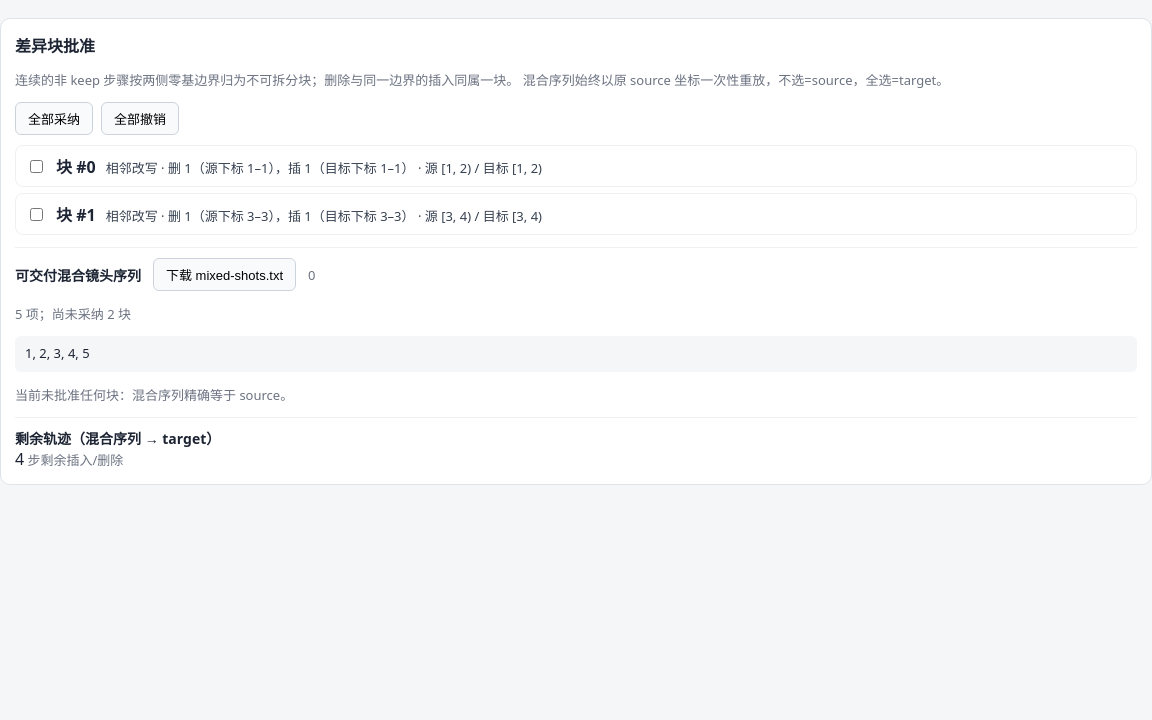
Test: BlockMixer 逐块批准 › 两块场景逐块选择不下标漂移，剩余请求使用最新混合序列
Check: the text with test id "remaining-distance" reads "4", box [15,448,24,470]
What coordinates should you click on to do the following:
click the 1st checkbox with test id "block-checkbox"
I would click on:
 (36, 166)
Its box is [30,160,43,173].
Wait 150 ms
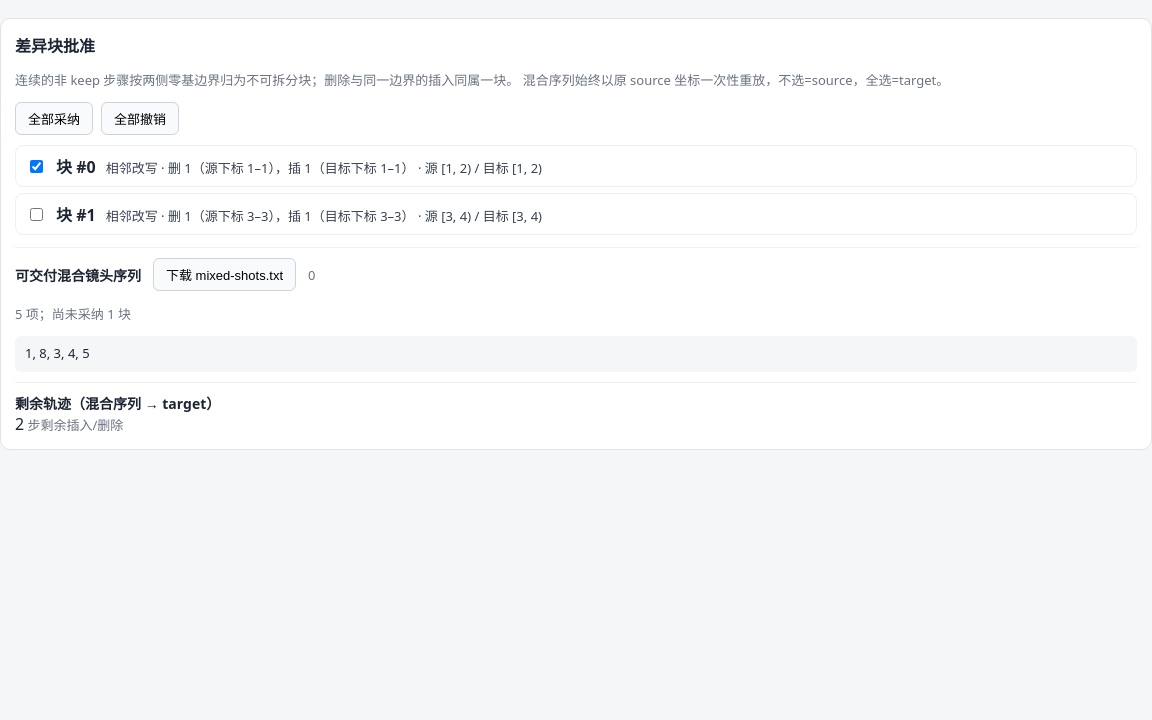
Check: the text with test id "mixed-sequence" reads "1, 8, 3, 4, 5", box [25,344,90,362]
Check: the text with test id "remaining-distance" reads "2", box [15,413,24,435]
What coordinates should you click on to do the following:
click the 1st checkbox with test id "block-checkbox"
I would click on:
 (36, 166)
Its box is [30,160,43,173].
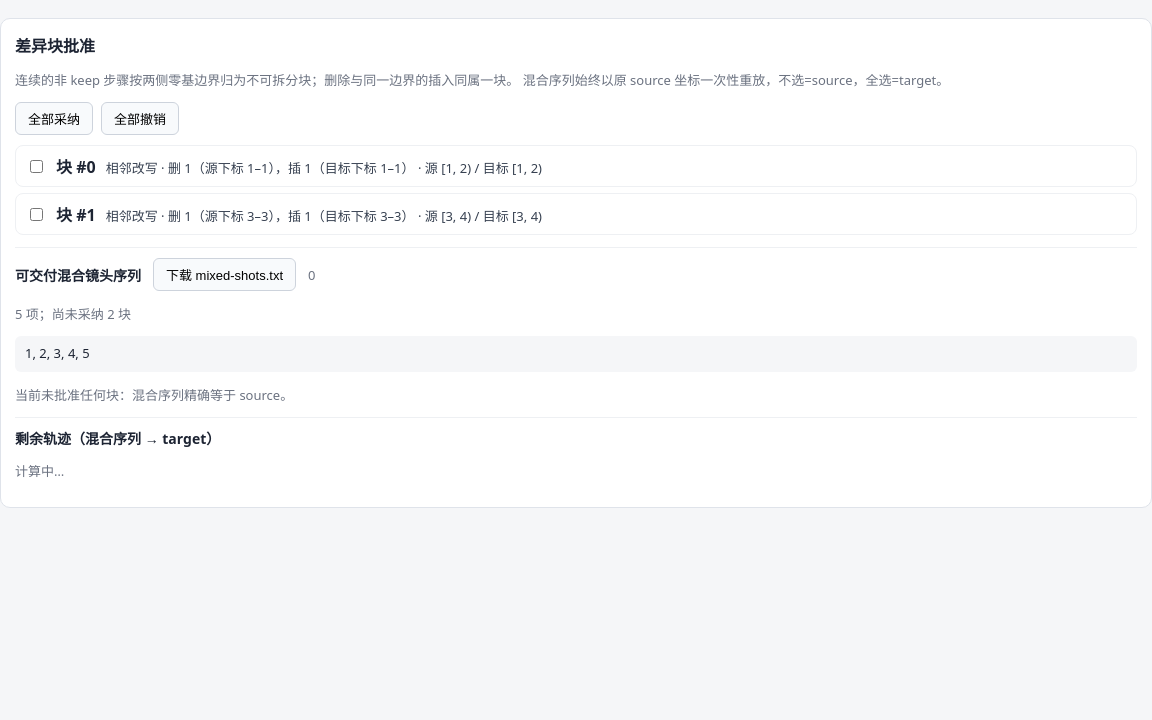
What coordinates should you click on to do the following:
click the 2nd checkbox with test id "block-checkbox"
I would click on:
 (36, 214)
Its box is [30,208,43,221].
Wait 150 ms
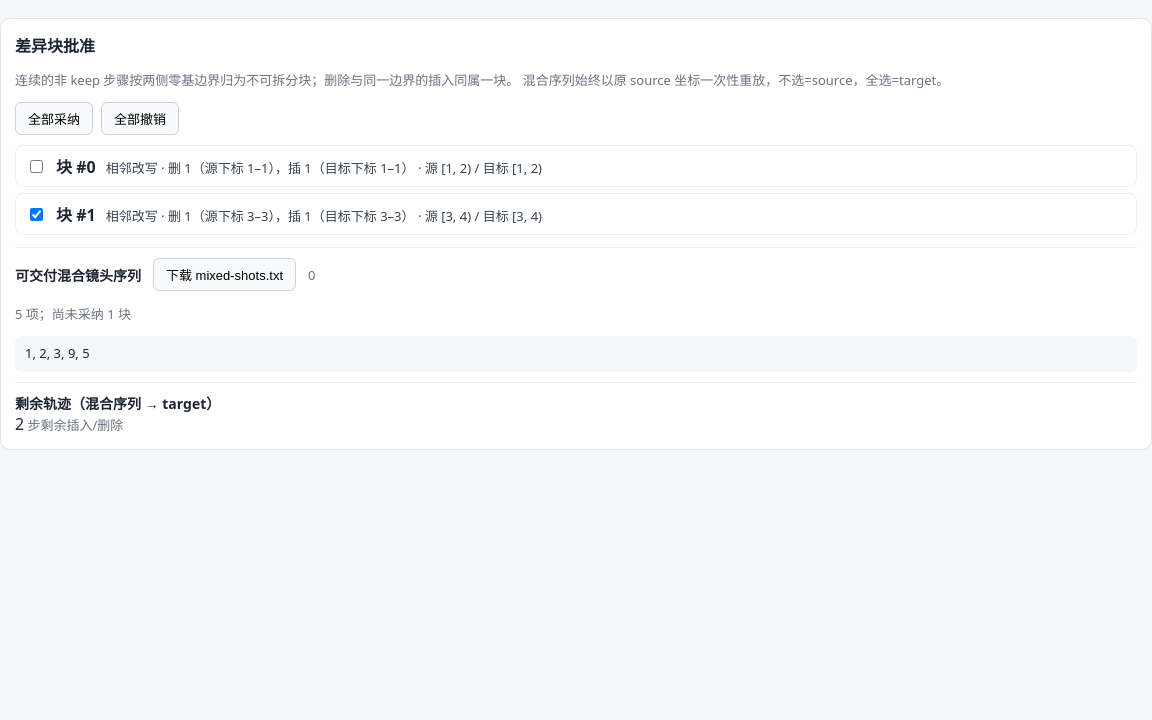
Check: the text with test id "mixed-sequence" reads "1, 2, 3, 9, 5", box [25,344,90,362]
